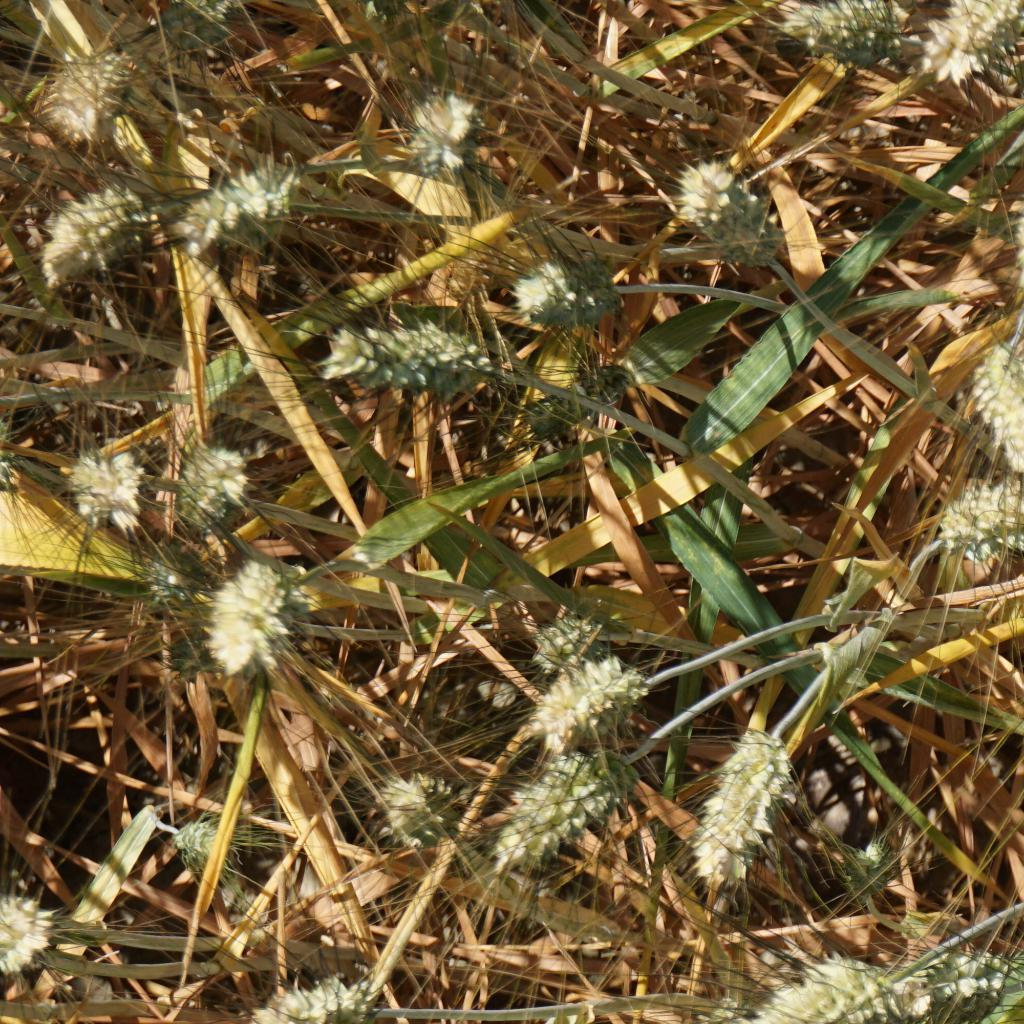0-0: (688, 726, 784, 878), (482, 747, 621, 851), (318, 315, 480, 400), (26, 34, 138, 148), (669, 154, 780, 266), (721, 949, 879, 1024), (32, 188, 145, 289), (182, 169, 291, 266), (506, 246, 624, 329), (212, 556, 294, 673), (390, 87, 493, 172), (372, 766, 471, 852), (445, 202, 524, 307), (930, 474, 1024, 562), (246, 969, 395, 1024), (530, 668, 649, 733), (787, 0, 915, 60), (935, 0, 1024, 79), (65, 440, 147, 523), (156, 0, 248, 73), (168, 809, 255, 881), (972, 346, 1024, 465), (178, 436, 247, 525), (901, 956, 1015, 1008), (0, 898, 73, 973), (538, 615, 608, 668), (562, 359, 632, 399), (143, 560, 196, 611), (851, 834, 884, 870)
